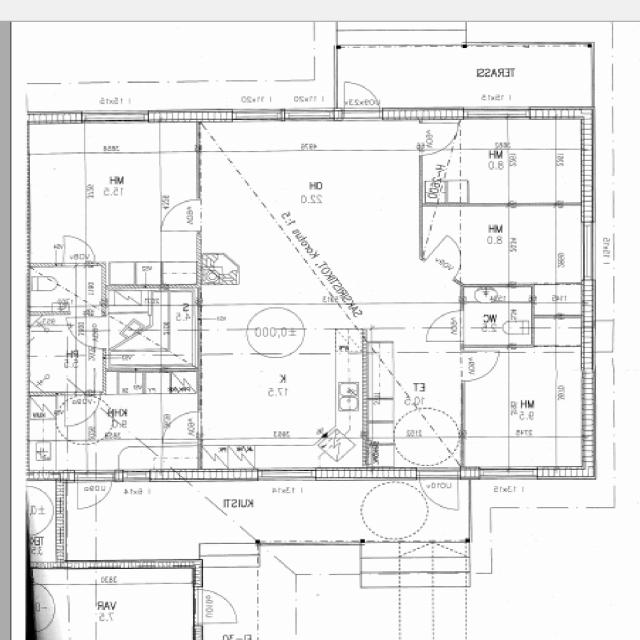door: (424, 236, 475, 282), (420, 470, 458, 514), (344, 78, 380, 121), (194, 590, 241, 622), (78, 470, 112, 512), (418, 123, 458, 155), (162, 199, 201, 231), (66, 317, 106, 348), (163, 412, 201, 443), (461, 350, 500, 380), (66, 392, 100, 426), (428, 311, 466, 341), (64, 236, 94, 267), (0, 489, 26, 516)
